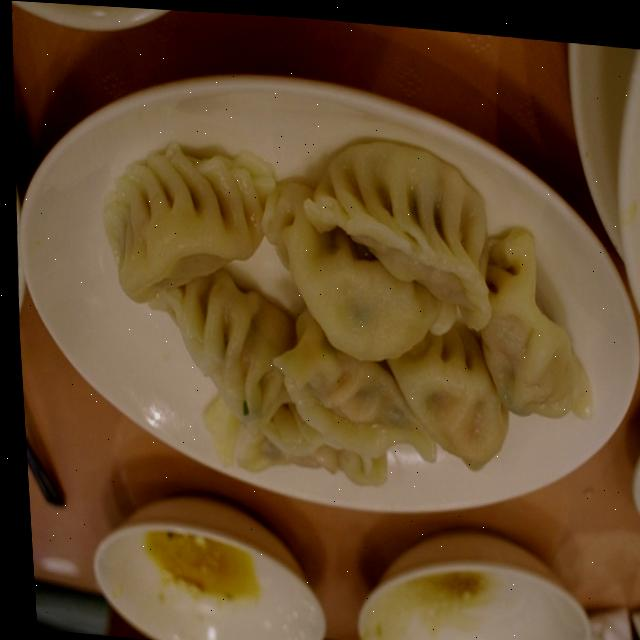带馅早点: (37, 32, 640, 632)
